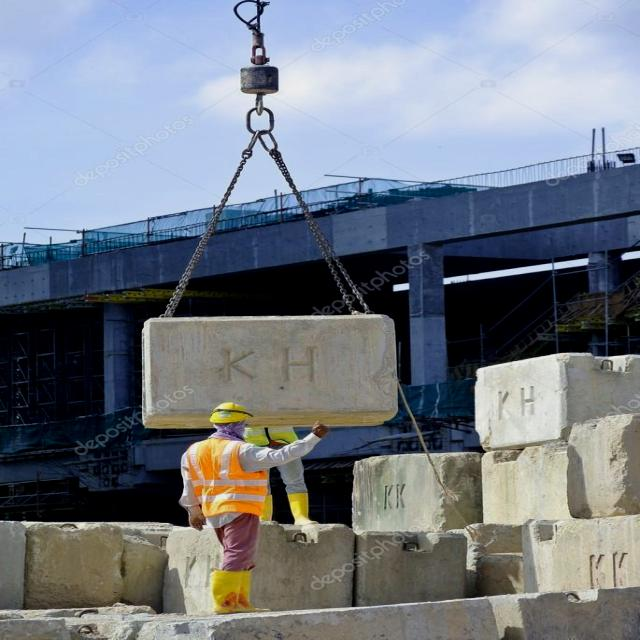hand_noglove: (187, 509, 212, 534), (308, 418, 334, 440)
head_helmet: (206, 401, 248, 425)
person: (190, 404, 262, 611)
shoes: (203, 564, 268, 618)
vest: (184, 443, 264, 515)
